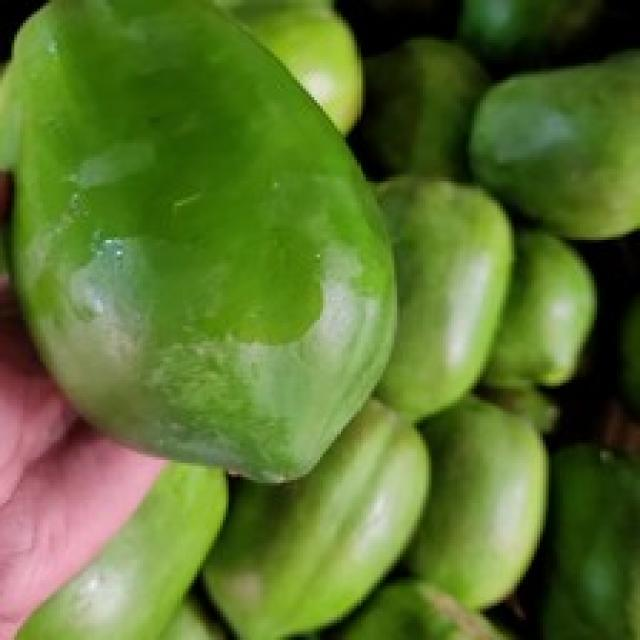Pepaya unrippen: (2, 2, 409, 467)
